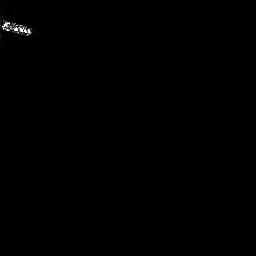ship: (1, 19, 33, 35)
